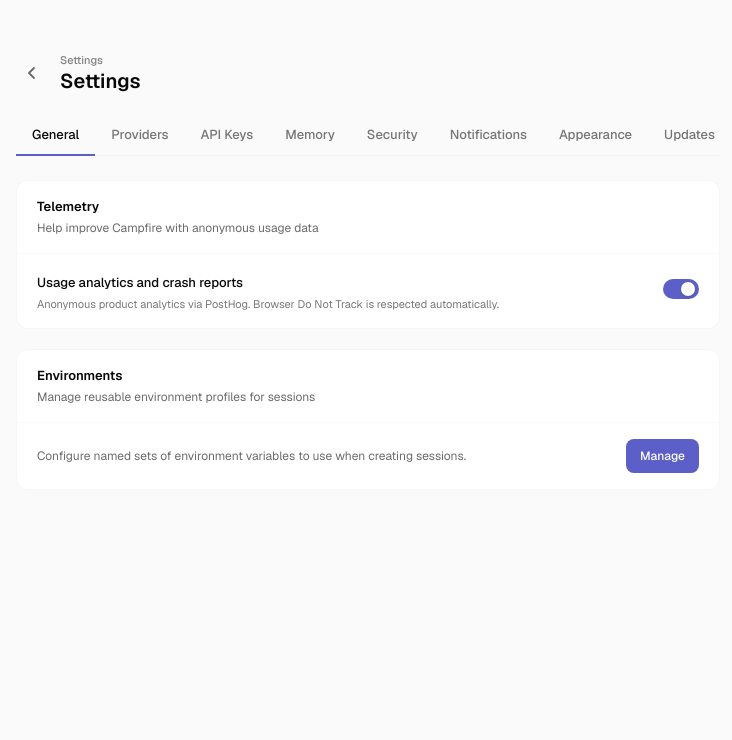
Scenario: SettingsPage - Memory tab › loads server-provided memory settings into the form
Click the tab "Memory" at (310, 135), box [269,114,351,156]
(page scrolled)
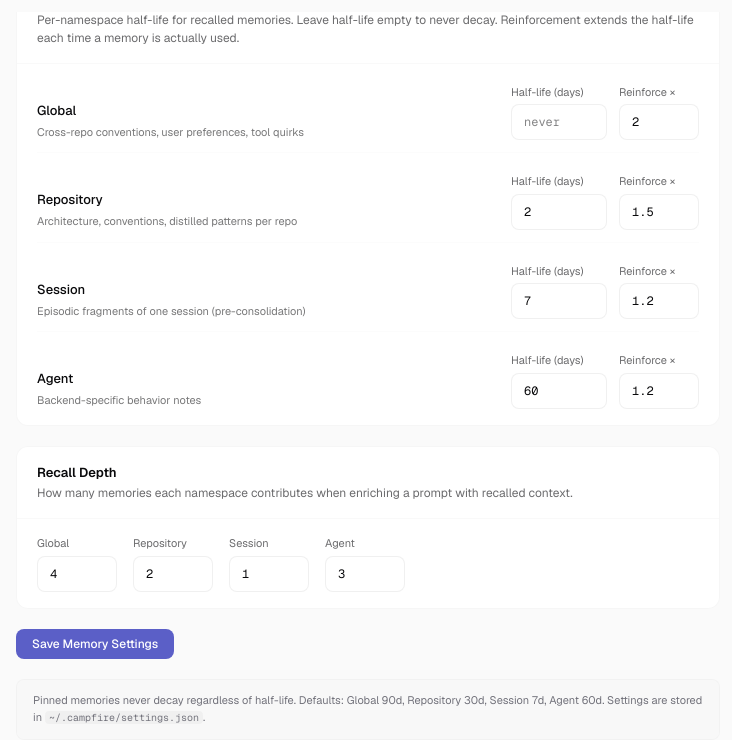
Result: the number field with id "memory-halflife-repo" holds "2" at [511,194,607,230]
Result: the number field with id "memory-halflife-global" is not empty at [511,104,607,140]
Result: the number field with id "memory-reinforce-global" holds "2" at [619,104,699,140]
